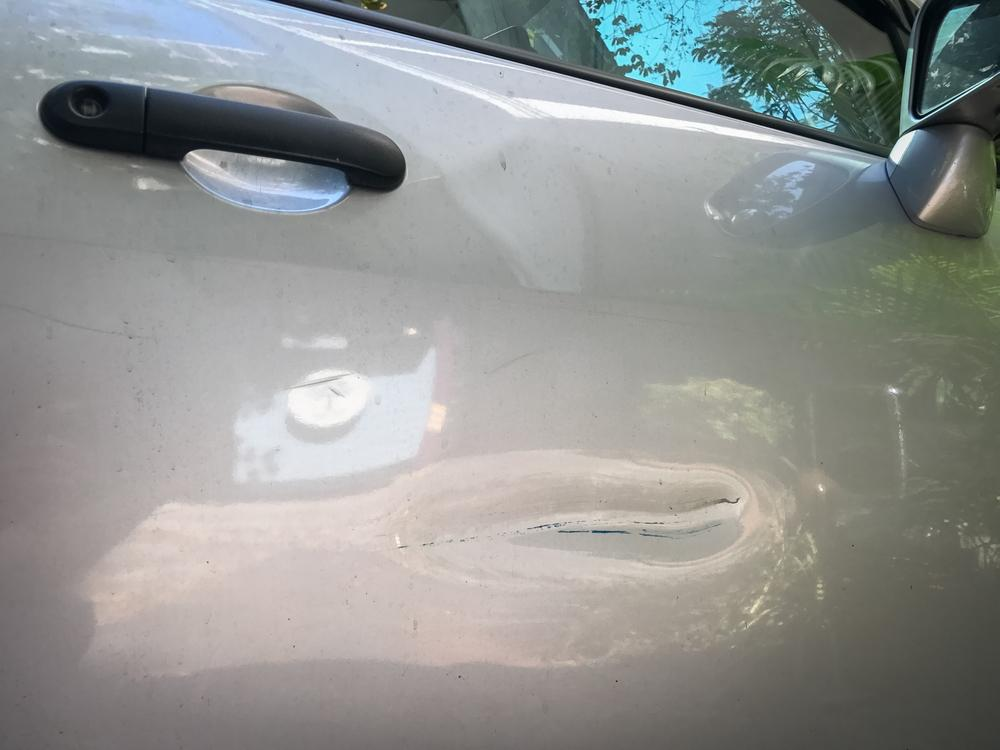dent: (387, 461, 753, 577), (450, 117, 604, 295)
